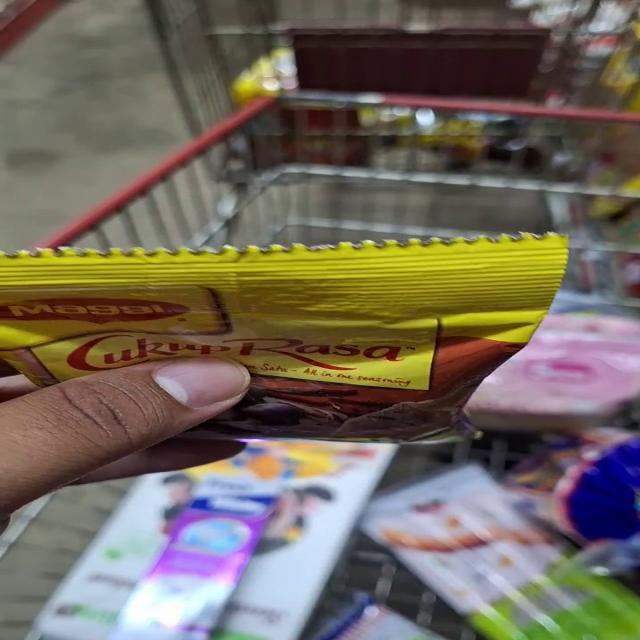Maggi Cukup Rasa: (0, 243, 556, 453)
Tisu: (282, 441, 402, 561)
Ubat Gigi: (152, 479, 292, 569), (120, 556, 239, 640)
